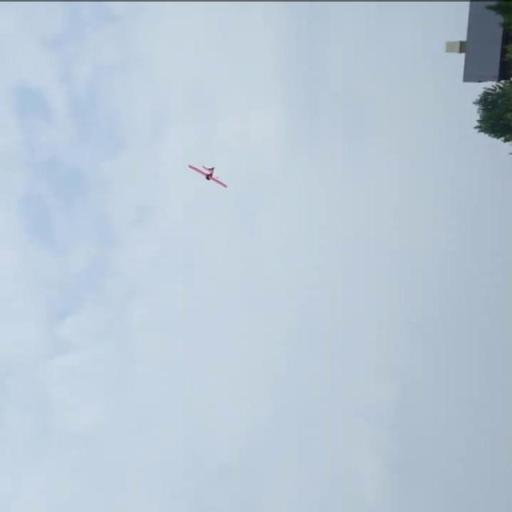uav: (186, 164, 228, 186)
